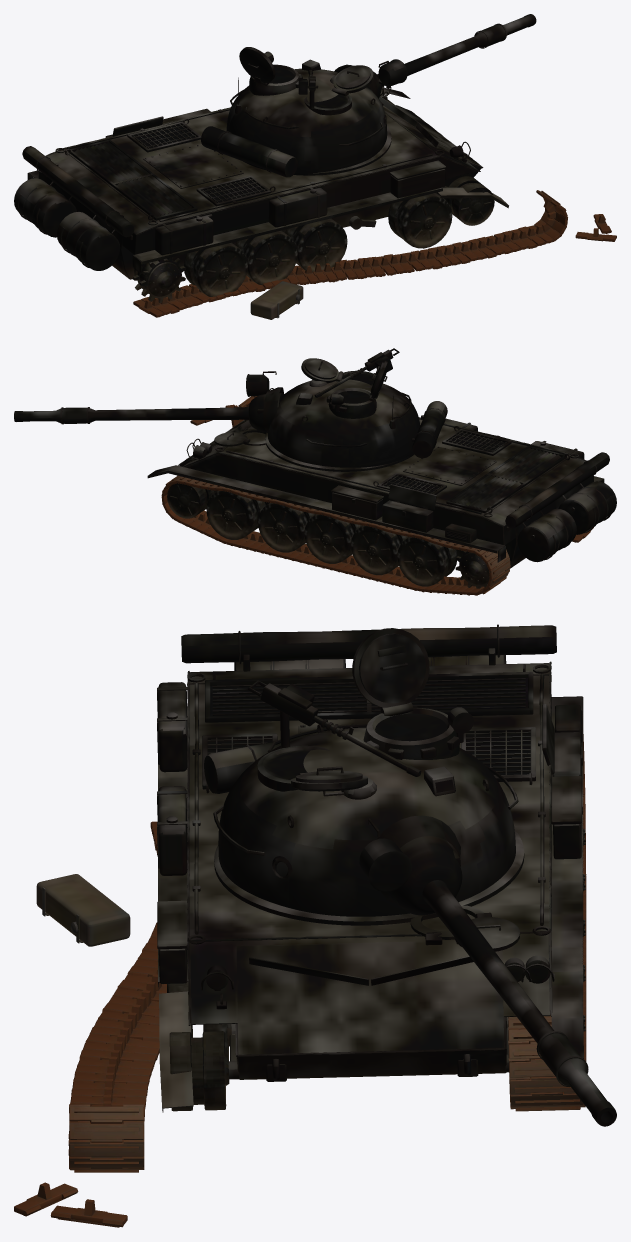
File: tank_wreck.glb
3 views of the same model, one above another, from view 1: azimuth 30°, elevation 25°; view 2: azimuth 150°, elevation 25°; view 3: azimuth 270°, elevation 25° (orthographic). The views are drawn at different scales.
Visible parts, largest first — view 1: Hull, Turret, TrackThrown, WheelR1, WheelR5, WheelR4, WheelR3, Barrel, SprocketR, IdlerR, FuelCellFallen, LoaderHatch (+2 smaller); view 2: Hull, Turret, TrackL, Barrel, WheelL5, WheelL1, WheelL3, WheelL4, WheelL2, IdlerL, Gun, SprocketL (+4 smaller); view 3: Hull, Turret, TrackThrown, Barrel, Gun, CommanderHatch, TrackL, FuelCellFallen, IdlerR, LoaderHatch, DriverHatch.
Part boxes in pixels (x1=…): Hull: x1=14, y1=86, x2=508, y2=279; Turret: x1=201, y1=51, x2=387, y2=177; TrackThrown: x1=133, y1=190, x2=616, y2=317; WheelR1: x1=388, y1=192, x2=452, y2=248; WheelR5: x1=184, y1=242, x2=247, y2=296; WheelR4: x1=235, y1=230, x2=297, y2=284; WheelR3: x1=285, y1=218, x2=347, y2=272; Barrel: x1=377, y1=14, x2=536, y2=86; SprocketR: x1=132, y1=257, x2=185, y2=302; IdlerR: x1=444, y1=176, x2=494, y2=225; FuelCellFallen: x1=250, y1=281, x2=303, y2=319; LoaderHatch: x1=331, y1=65, x2=374, y2=96; Hull: x1=147, y1=388, x2=616, y2=568; Turret: x1=263, y1=348, x2=447, y2=467; TrackL: x1=161, y1=475, x2=510, y2=595; Barrel: x1=14, y1=406, x2=248, y2=424; WheelL5: x1=397, y1=537, x2=457, y2=586; WheelL1: x1=206, y1=490, x2=265, y2=539; WheelL3: x1=304, y1=514, x2=362, y2=563; WheelL4: x1=351, y1=525, x2=408, y2=575; WheelL2: x1=258, y1=503, x2=315, y2=552; IdlerL: x1=167, y1=483, x2=213, y2=518; Gun: x1=246, y1=371, x2=283, y2=432; SprocketL: x1=455, y1=550, x2=489, y2=588; Hull: x1=157, y1=624, x2=583, y2=1112; Turret: x1=204, y1=680, x2=518, y2=916; TrackThrown: x1=14, y1=821, x2=166, y2=1227; Barrel: x1=422, y1=880, x2=616, y2=1126; Gun: x1=359, y1=818, x2=462, y2=915; CommanderHatch: x1=352, y1=628, x2=429, y2=716; TrackL: x1=508, y1=734, x2=586, y2=1111; FuelCellFallen: x1=36, y1=874, x2=130, y2=946; IdlerR: x1=169, y1=1031, x2=229, y2=1111; LoaderHatch: x1=291, y1=766, x2=367, y2=796; DriverHatch: x1=454, y1=912, x2=520, y2=951.
Size of the model in its own units: 9.16 by 2.98 by 4.66.
Materials: 2 (2 with a texture image).
